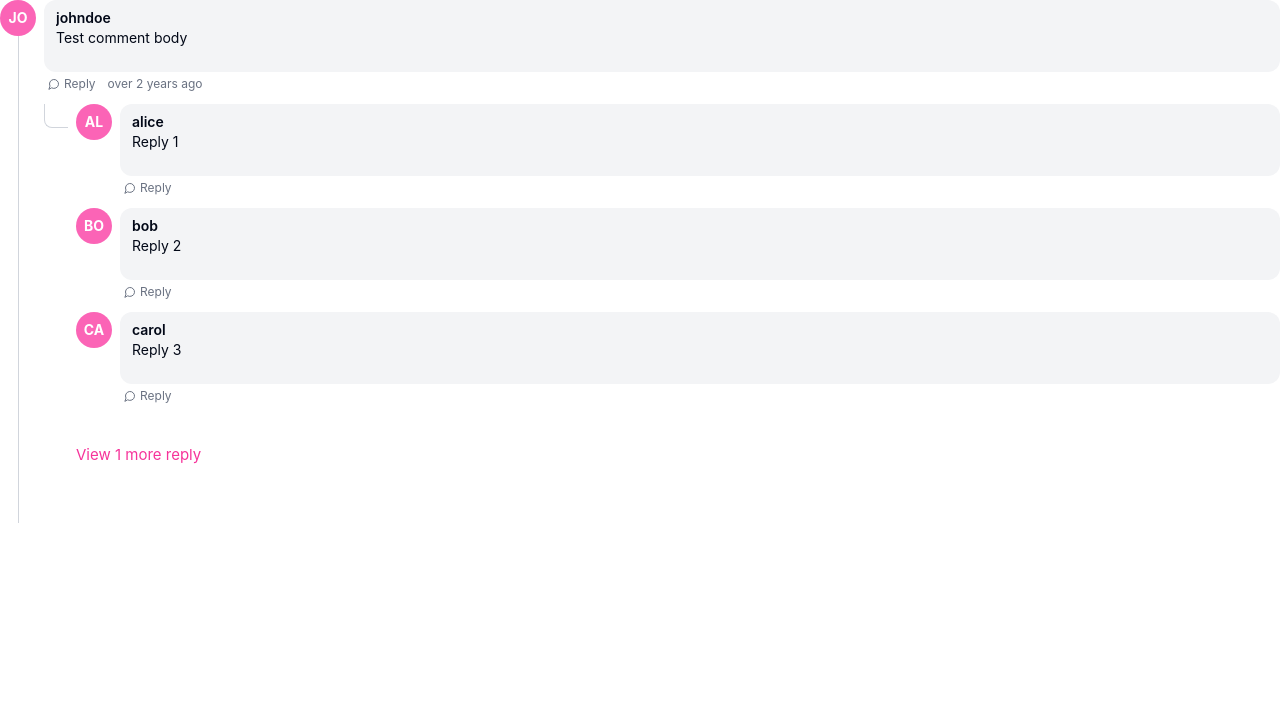
Test case: CommentItem › children replies › hides extra replies after "Hide replies" is clicked
The image size is (1280, 720).
Click the button "View 1 more reply" at (139, 455), box [76, 424, 201, 486]
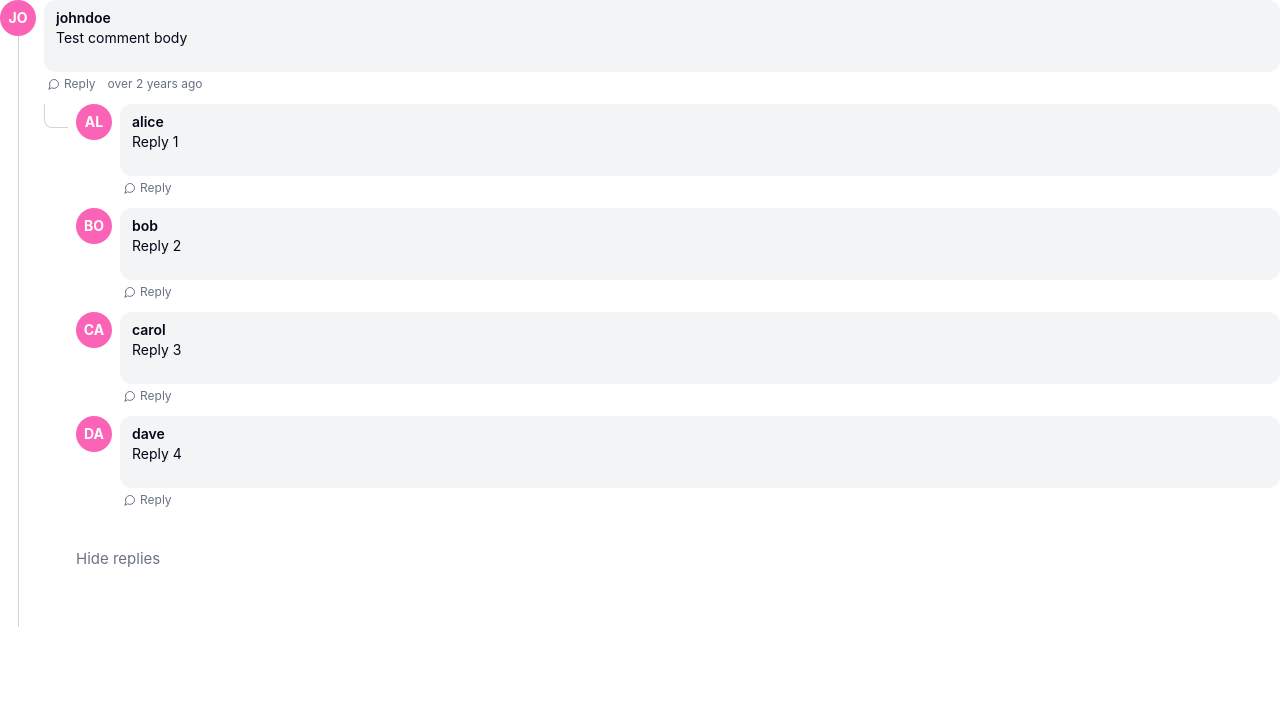
Click the button "Hide replies" at (118, 559), box [76, 528, 160, 590]
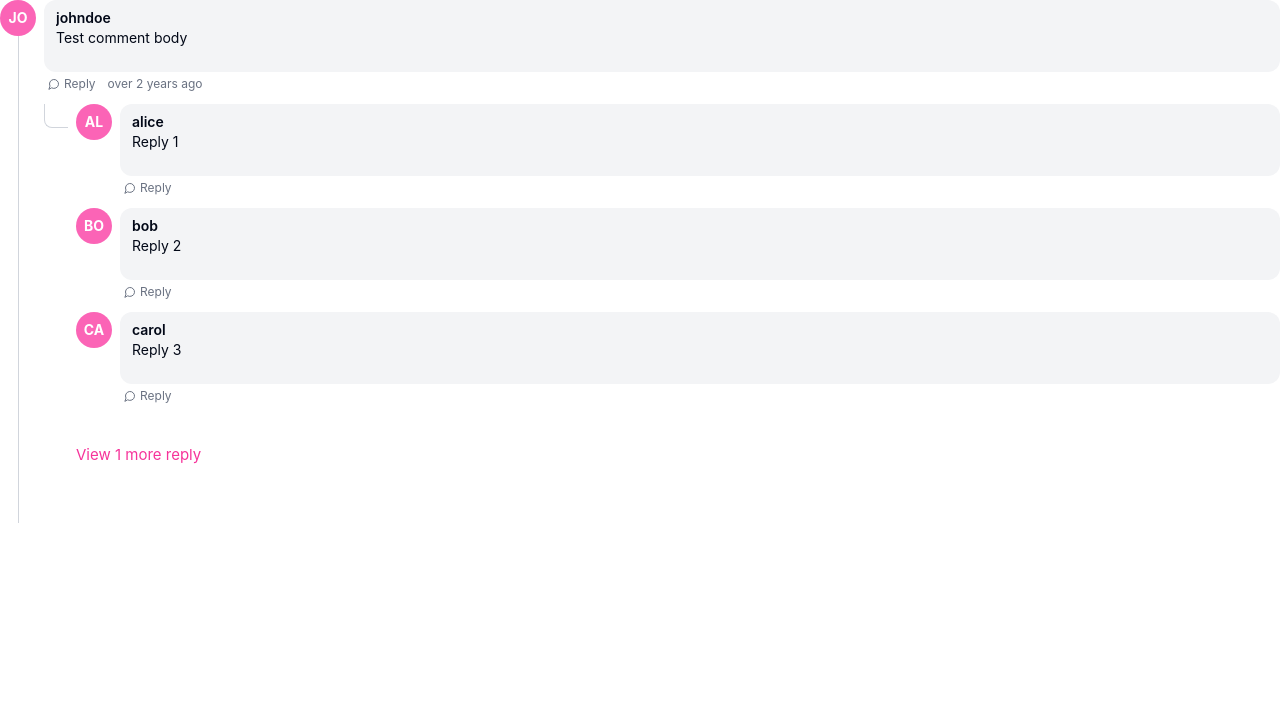
Now the text "Reply 4" is gone
